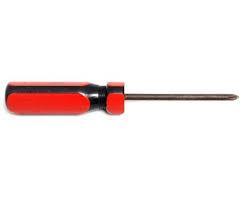screwdriver: (4, 79, 239, 117)
